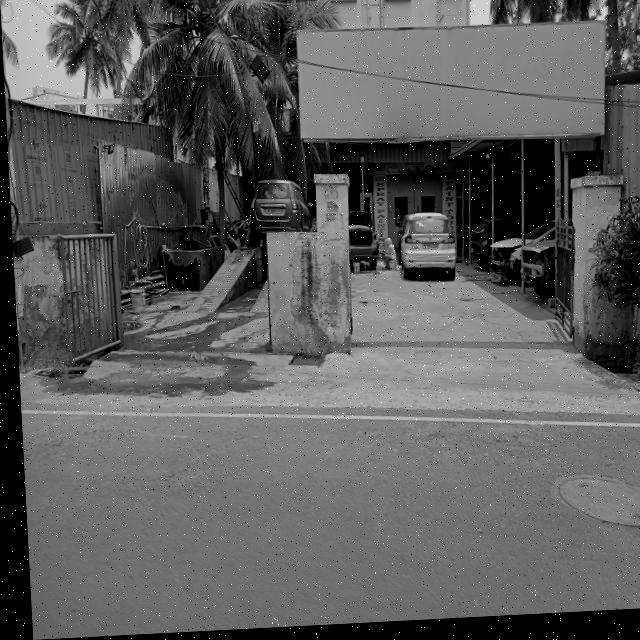car: (399, 217, 458, 286), (246, 180, 306, 243), (467, 221, 520, 276), (346, 204, 378, 283)
